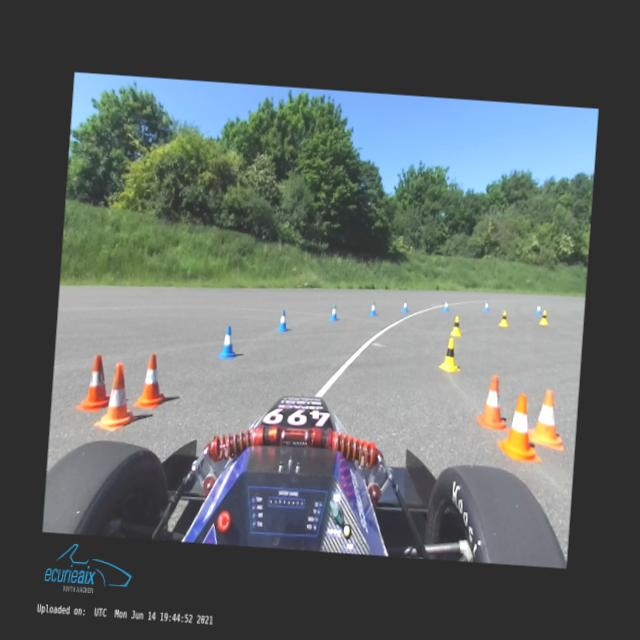blue_cone: (218, 324, 238, 358), (276, 309, 289, 332), (328, 304, 338, 320), (369, 301, 377, 315), (402, 300, 408, 312), (536, 303, 542, 313), (483, 301, 489, 311), (443, 300, 449, 310)
orange_cone: (495, 392, 545, 462), (93, 360, 140, 433), (528, 388, 568, 451), (76, 353, 112, 412), (476, 374, 512, 432), (133, 352, 169, 409)
yellow_cone: (438, 337, 462, 372), (450, 315, 462, 336), (538, 309, 549, 325), (498, 310, 509, 326)
